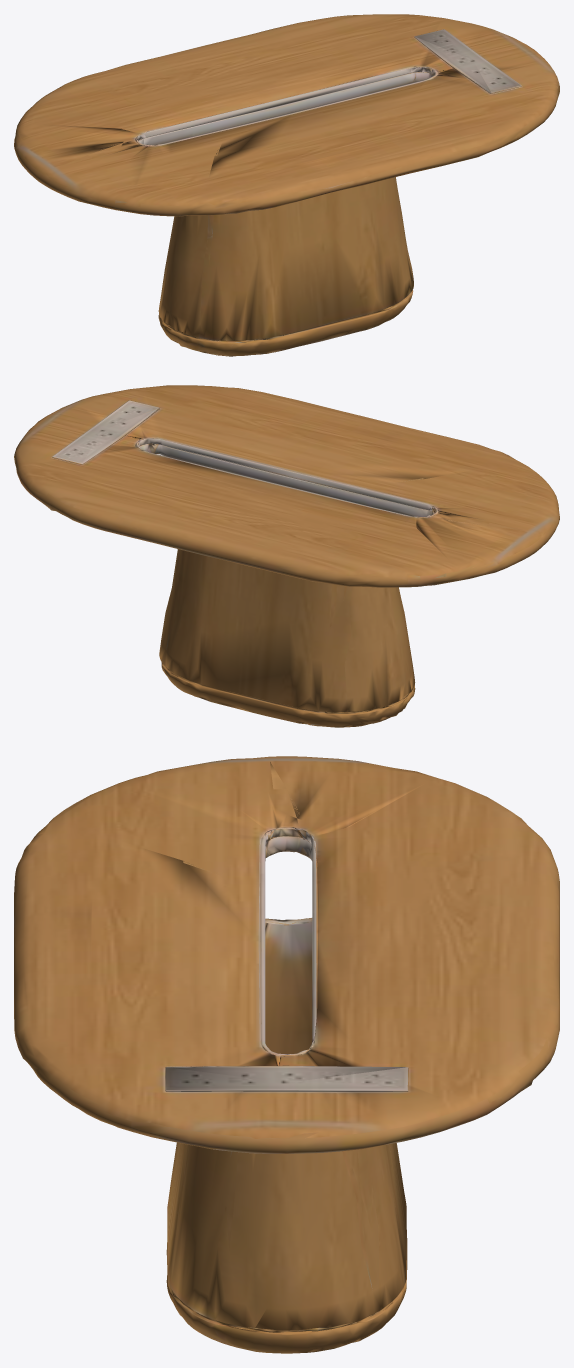
File: conference_table_oval.glb
The picture shows the model from 3 angles, top to bottom: view 1: azimuth 30°, elevation 25°; view 2: azimuth 150°, elevation 25°; view 3: azimuth 270°, elevation 25°; orthographic projection. The views are drawn at different scales.
Parts seen in each view (by area): view 1: prop; view 2: prop; view 3: prop.
Part boxes in pixels (x1,y1,x2,y2): prop: [14, 14, 559, 356]; prop: [14, 385, 559, 727]; prop: [14, 756, 559, 1353].
Bounding box in the file's own units: 3.2 × 1.28 × 1.92.
Materials: 1 (1 with a texture image).
